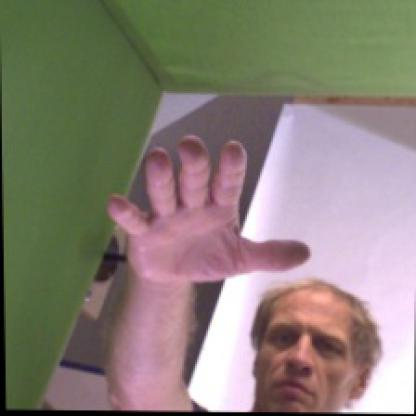Hand: (107, 134, 312, 285)
